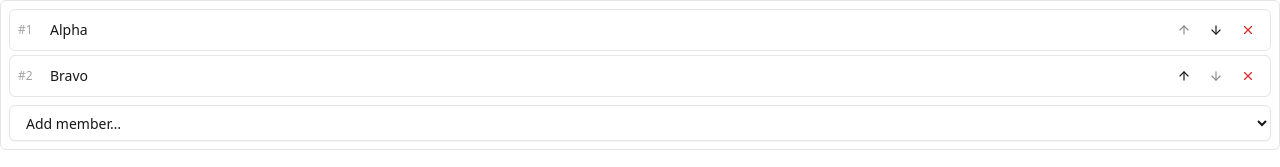
Test: OrderedMultiSelect › removes an item with the X button
Expected: the number of list items is 2, [9, 9, 1271, 51]; [9, 55, 1271, 97]
Click the button named "remove" in the row of "Alpha". click: (1248, 30)
box: [1234, 16, 1262, 44]
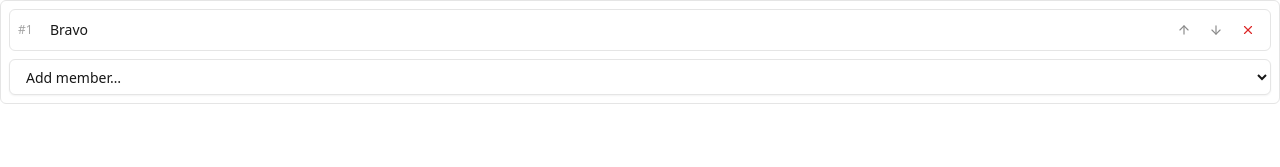
Expected: the list item shows "Bravo", [50, 20, 88, 39]
Now the number of list items is 1, box [9, 9, 1271, 51]
